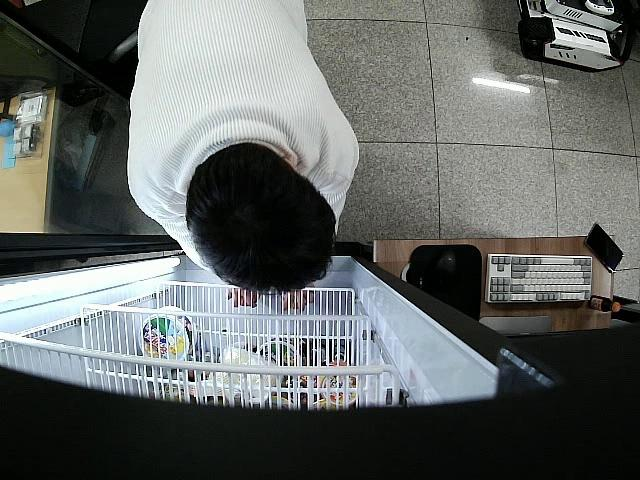00_hand: (223, 286, 259, 311)
